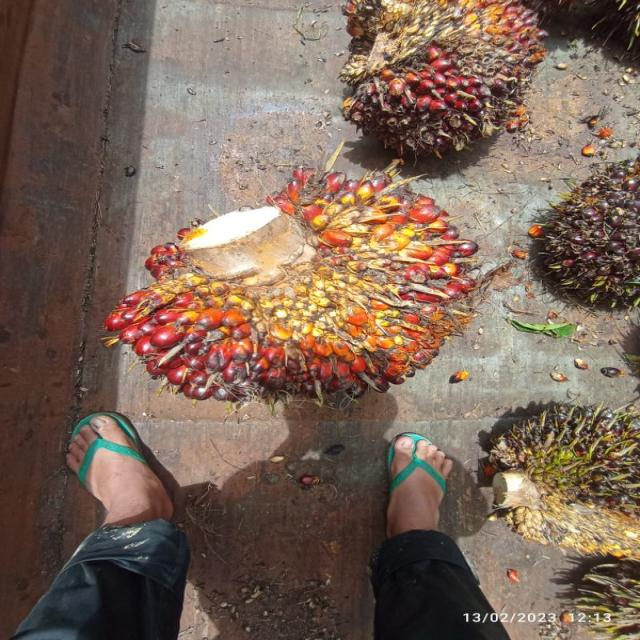fraksi 00: (480, 343, 640, 553), (535, 130, 640, 326)
fraksi 1: (363, 0, 569, 168)
fraksi 3: (87, 159, 507, 404)
